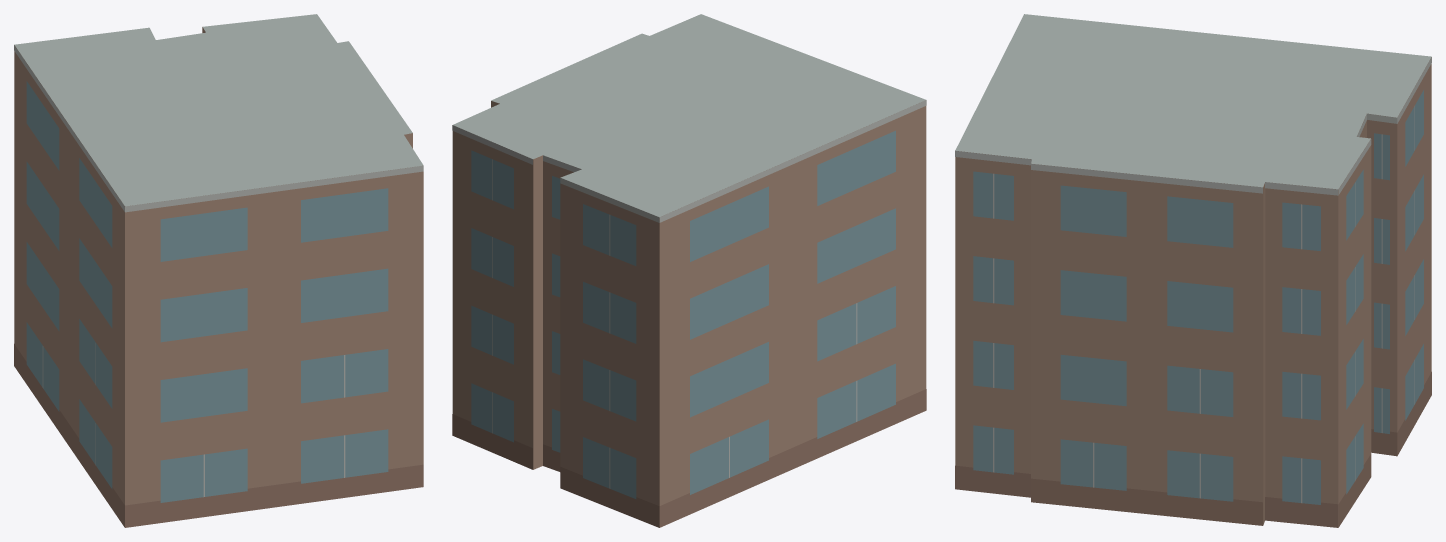
File: survey-upis-32662832.glb
3 views of the same model, side by side, from view 1: azimuth 30°, elevation 25°; view 2: azimuth 150°, elevation 25°; view 3: azimuth 270°, elevation 25° (orthographic). The views are drawn at different scales.
Visible parts, largest first — view 1: survey-upis-32662832.tmp; view 2: survey-upis-32662832.tmp; view 3: survey-upis-32662832.tmp.
Part boxes in pixels (bbox=[...]): survey-upis-32662832.tmp: bbox=[14, 14, 423, 527]; survey-upis-32662832.tmp: bbox=[452, 14, 926, 527]; survey-upis-32662832.tmp: bbox=[955, 14, 1431, 527].
Size of the model in its own units: 14.67 by 13.2 by 16.86.
